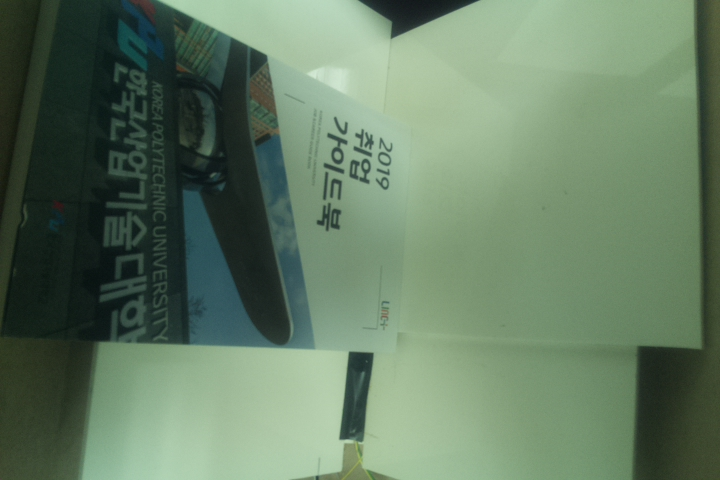book: (1, 1, 418, 356)
